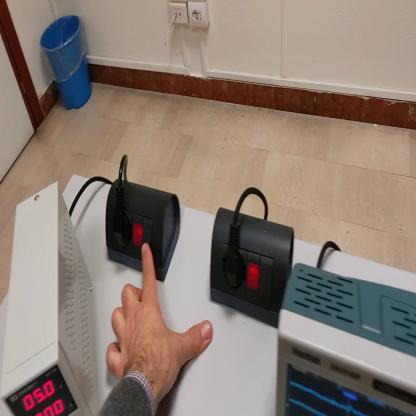hand: (108, 238, 212, 401)
oscilloscope: (276, 264, 416, 415)
socket: (212, 209, 295, 328), (105, 180, 181, 282)
